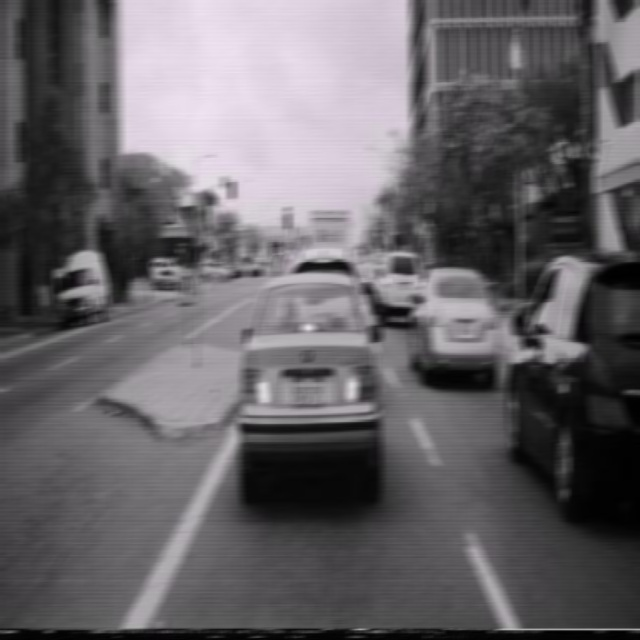keepRight: (266, 234, 284, 277)
